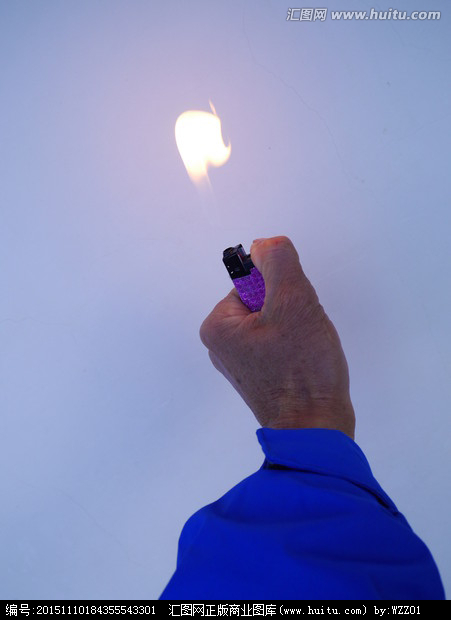fire: (163, 88, 254, 248)
